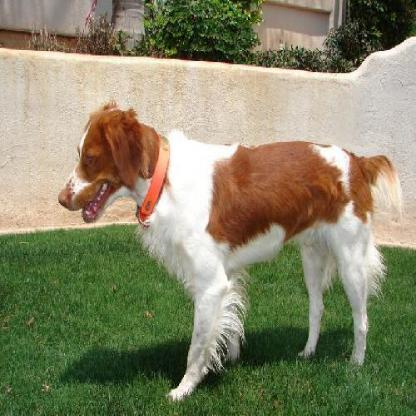Brittany_spaniel: (55, 99, 406, 404)
